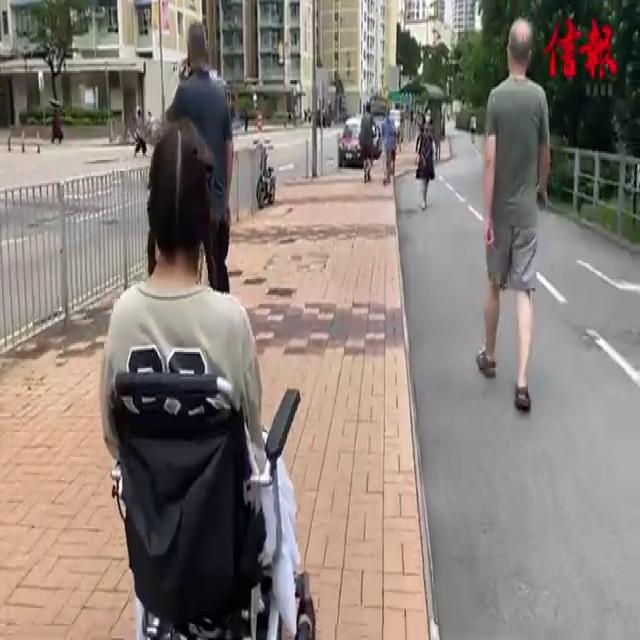wheelchairs: (86, 320, 327, 640)
